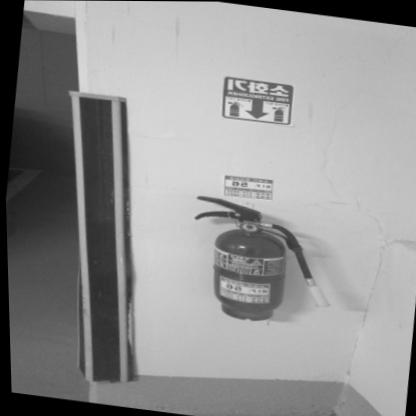FE: (182, 195, 294, 326)
